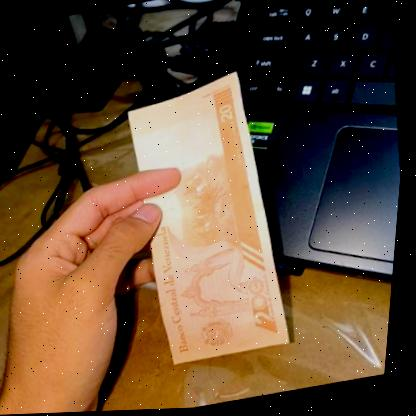twenty-back-vef: (109, 66, 313, 372)
